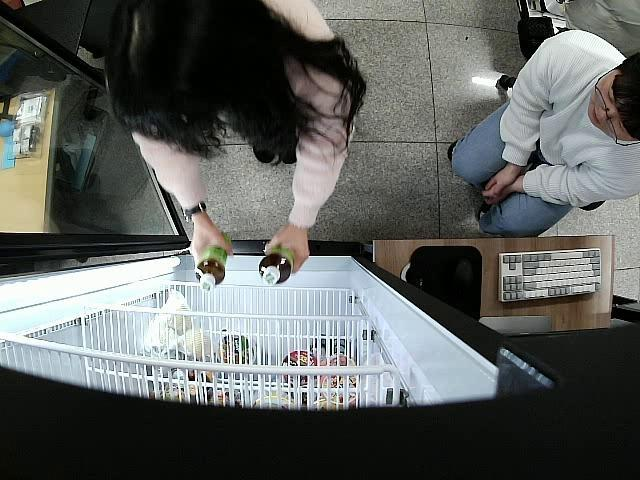19_17cha: (196, 230, 230, 291), (259, 246, 293, 286)
